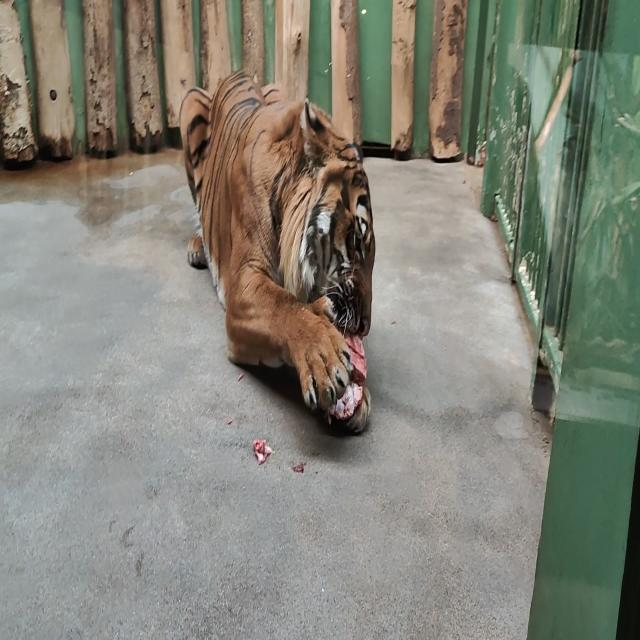tiger: (179, 70, 376, 434)
